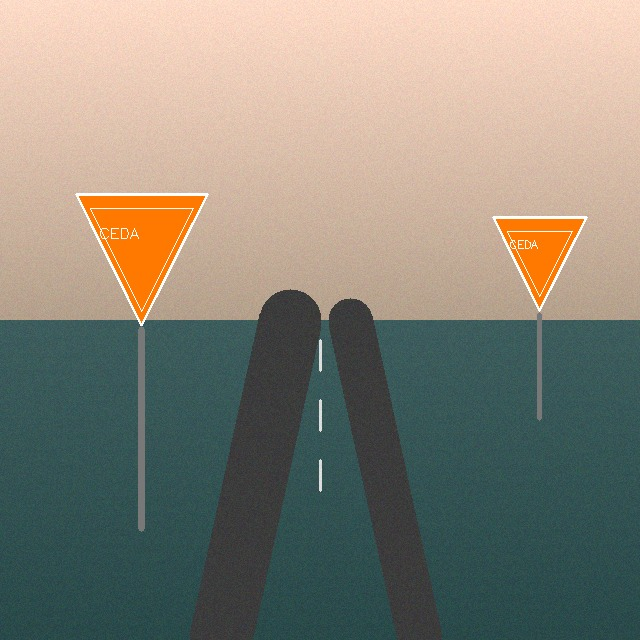ceda_el_paso: (72, 190, 211, 329), (489, 213, 590, 314)
